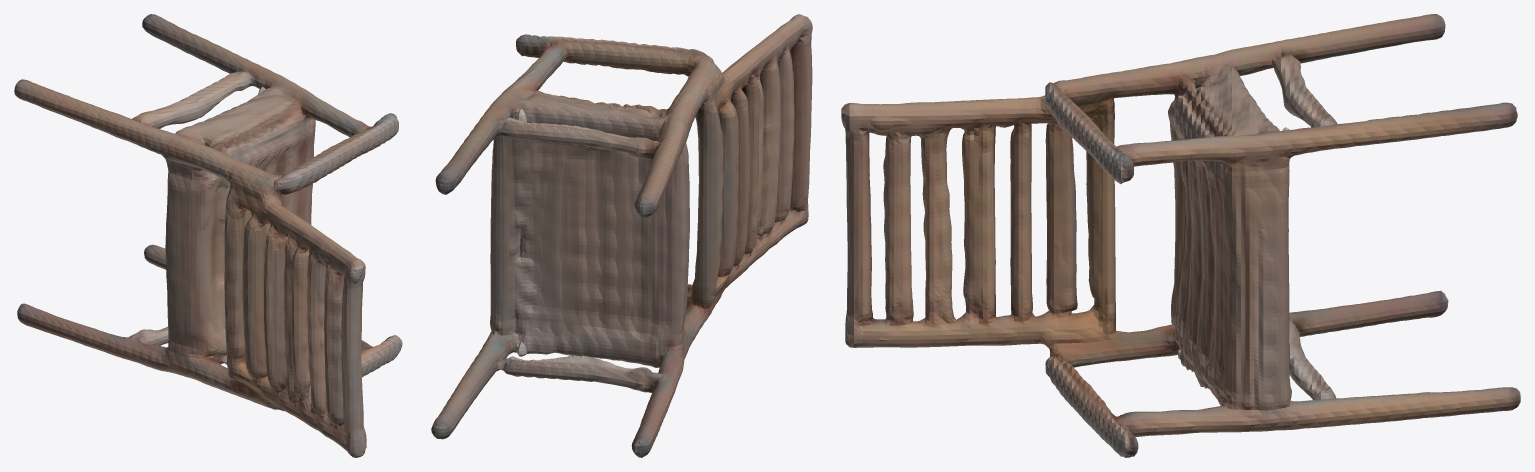
3 views of the same model, side by side, from view 1: azimuth 30°, elevation 25°; view 2: azimuth 150°, elevation 25°; view 3: azimuth 270°, elevation 25° (orthographic). The views are drawn at different scales.
Visible parts, largest first — view 1: world; view 2: world; view 3: world.
Part boxes in pixels (bbox=[...]): world: bbox=[14, 14, 402, 457]; world: bbox=[431, 14, 812, 457]; world: bbox=[841, 14, 1520, 457].
Size of the model in its own units: 0.5657 by 0.5165 by 1.04.
